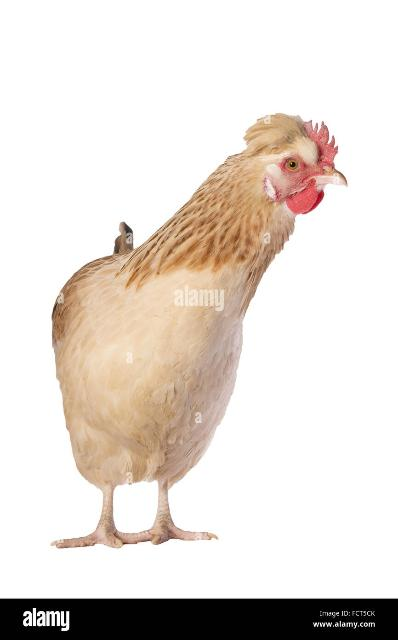Chicken: (50, 113, 350, 550)
